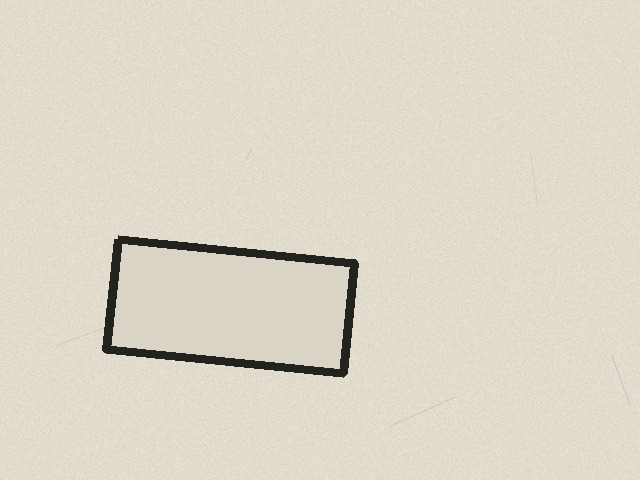parking_area: (106, 239, 354, 373)
